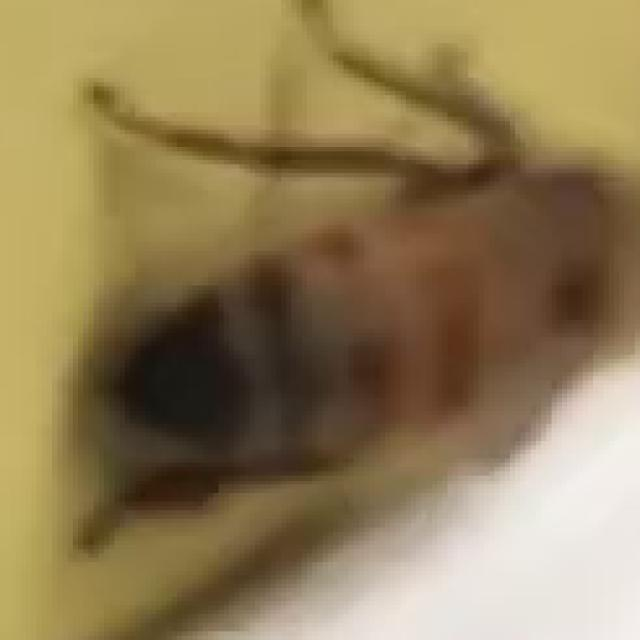honeybee: (64, 6, 640, 542)
